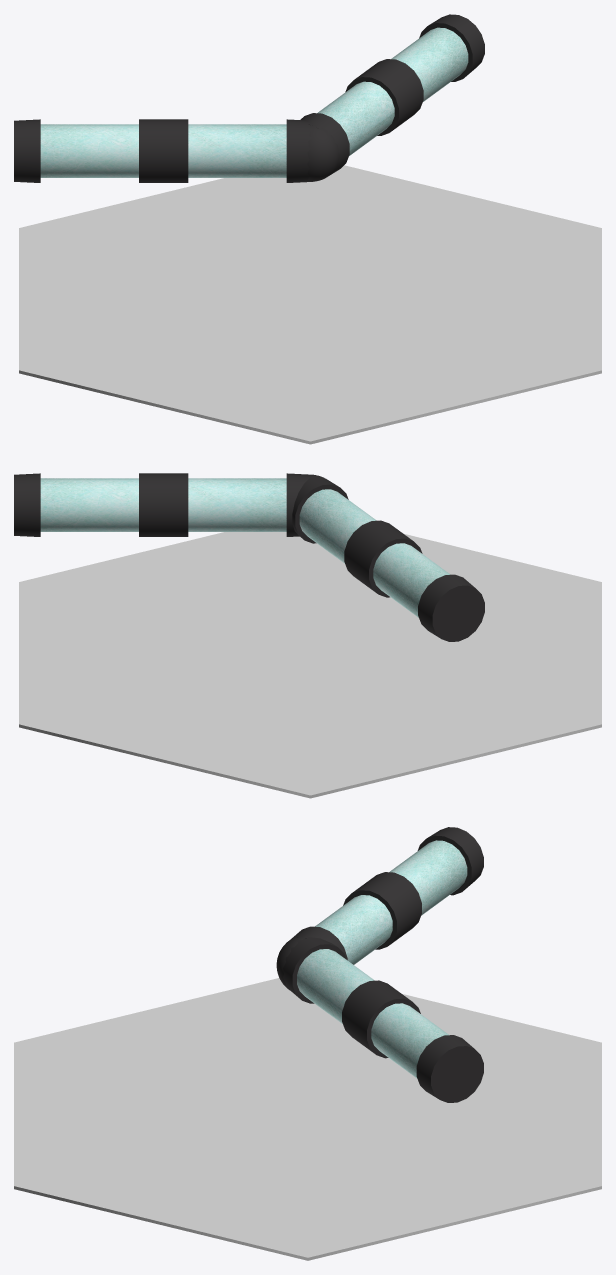
The picture shows the model from 3 angles, top to bottom: view 1: azimuth 30°, elevation 25°; view 2: azimuth 150°, elevation 25°; view 3: azimuth 270°, elevation 25°; orthographic projection.
Parts seen in each view (by area): view 1: Cylinder035, Cylinder032, Cylinder034, Sphere003; view 2: Cylinder035, Cylinder034, Cylinder032; view 3: Cylinder035, Cylinder034, Cylinder032.
Boxes of the visible parts, bbox=[...] form: Cylinder035: bbox=[19, 165, 601, 444]; Cylinder032: bbox=[14, 119, 313, 182]; Cylinder034: bbox=[300, 14, 484, 174]; Sphere003: bbox=[307, 125, 339, 181]; Cylinder035: bbox=[19, 532, 601, 798]; Cylinder034: bbox=[14, 473, 313, 536]; Cylinder032: bbox=[292, 476, 484, 641]; Cylinder035: bbox=[14, 978, 601, 1260]; Cylinder034: bbox=[283, 936, 483, 1102]; Cylinder032: bbox=[289, 827, 483, 964].
Size of the model in its own units: 100 by 29.5 by 86.6.
2 materials, 2 textured.
